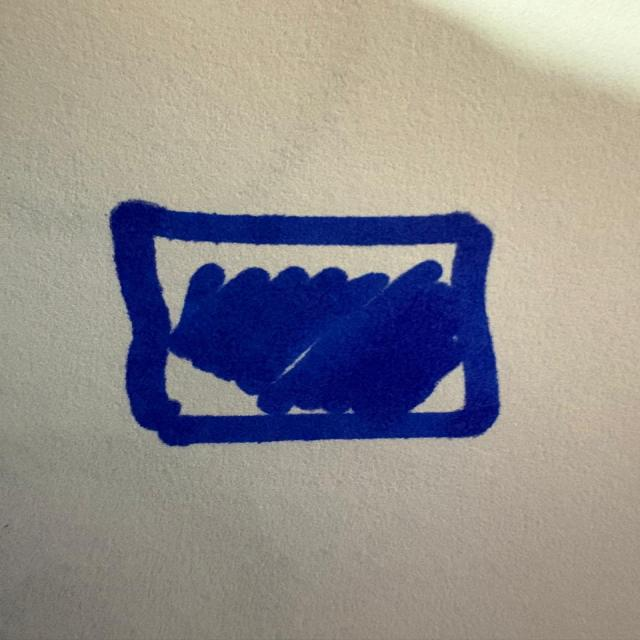Square: (98, 186, 533, 454)
